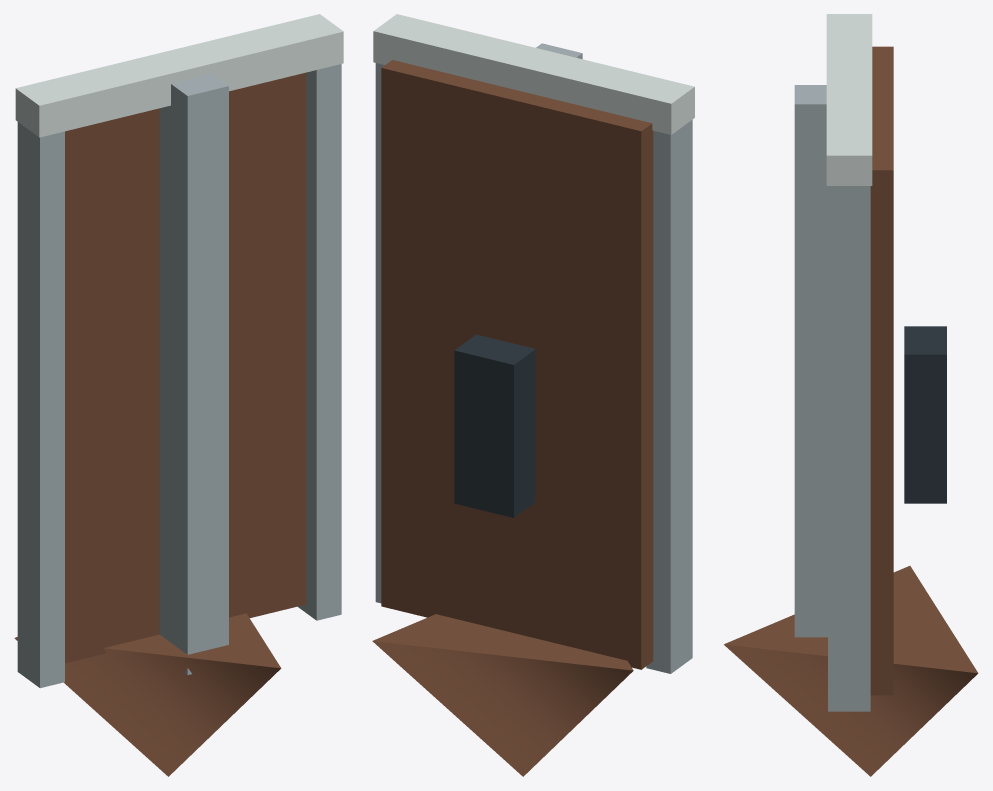
The model's file is fixed-tower-lod2.glb.
3 renders of one model, left to right at view 1: azimuth 30°, elevation 25°; view 2: azimuth 150°, elevation 25°; view 3: azimuth 270°, elevation 25°, orthographic. The views are drawn at different scales.
Visible parts, largest first — view 1: piece_whole; view 2: piece_whole; view 3: piece_whole.
Boxes of the visible parts, x1=… form: piece_whole: x1=14, y1=14, x2=343, y2=776; piece_whole: x1=372, y1=14, x2=694, y2=776; piece_whole: x1=724, y1=14, x2=978, y2=776.
Bounding box in the file's own units: 0.55 × 1.25 × 0.4183.
